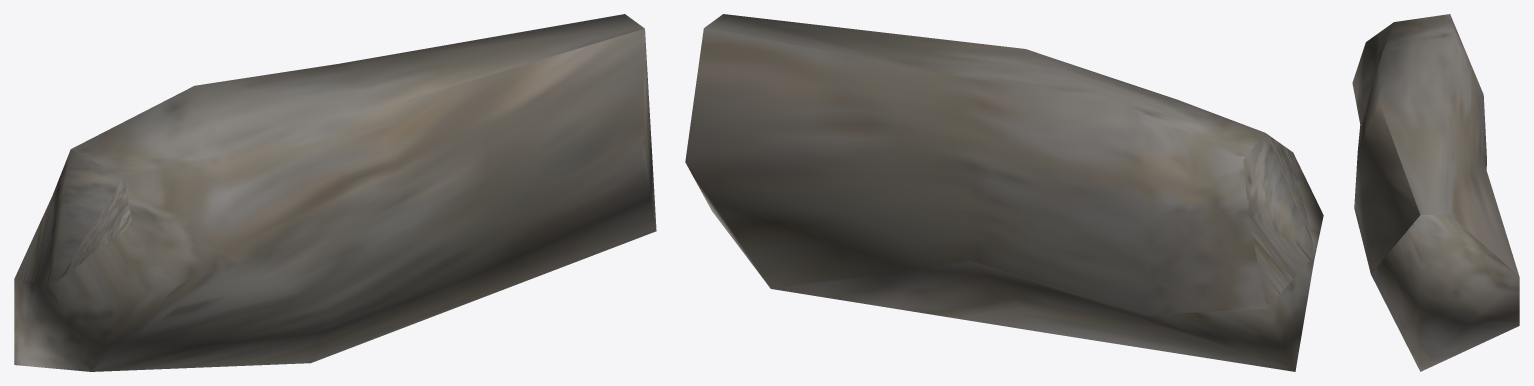
File: ruin3-s.glb
3 views of the same model, side by side, from view 1: azimuth 30°, elevation 25°; view 2: azimuth 150°, elevation 25°; view 3: azimuth 270°, elevation 25° (orthographic). The views are drawn at different scales.
Visible parts, largest first — view 1: ruin3; view 2: ruin3; view 3: ruin3.
Part boxes in pixels (left/top/right/bottom): ruin3: left=14, top=14, right=656, bottom=371; ruin3: left=685, top=14, right=1323, bottom=371; ruin3: left=1352, top=14, right=1519, bottom=371.
Size of the model in its own units: 5.38 by 2.13 by 1.69.
1 material, 1 textured.
